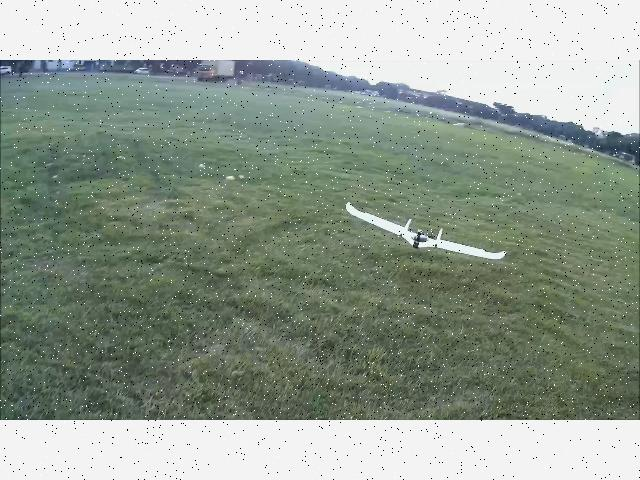Anti-Drone: (346, 201, 506, 259)
